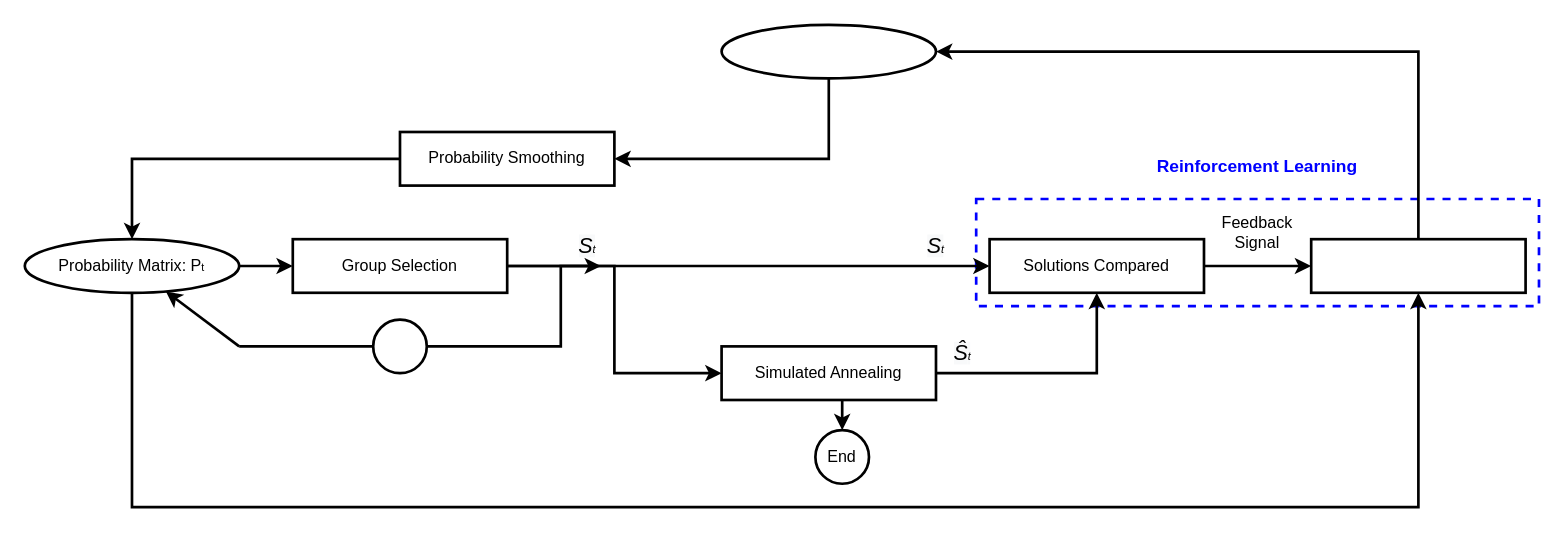
The diagram is 1562 pixels wide and 541 high, and some of its shapes have lost their labels. The box of each missing label's shape, as (x1, y1, x2, y2) in pixels:
Probability Matrix: Ṗ t: (720, 23, 937, 79)
Probability Updating: (1309, 237, 1526, 293)
Start: (371, 318, 427, 374)
